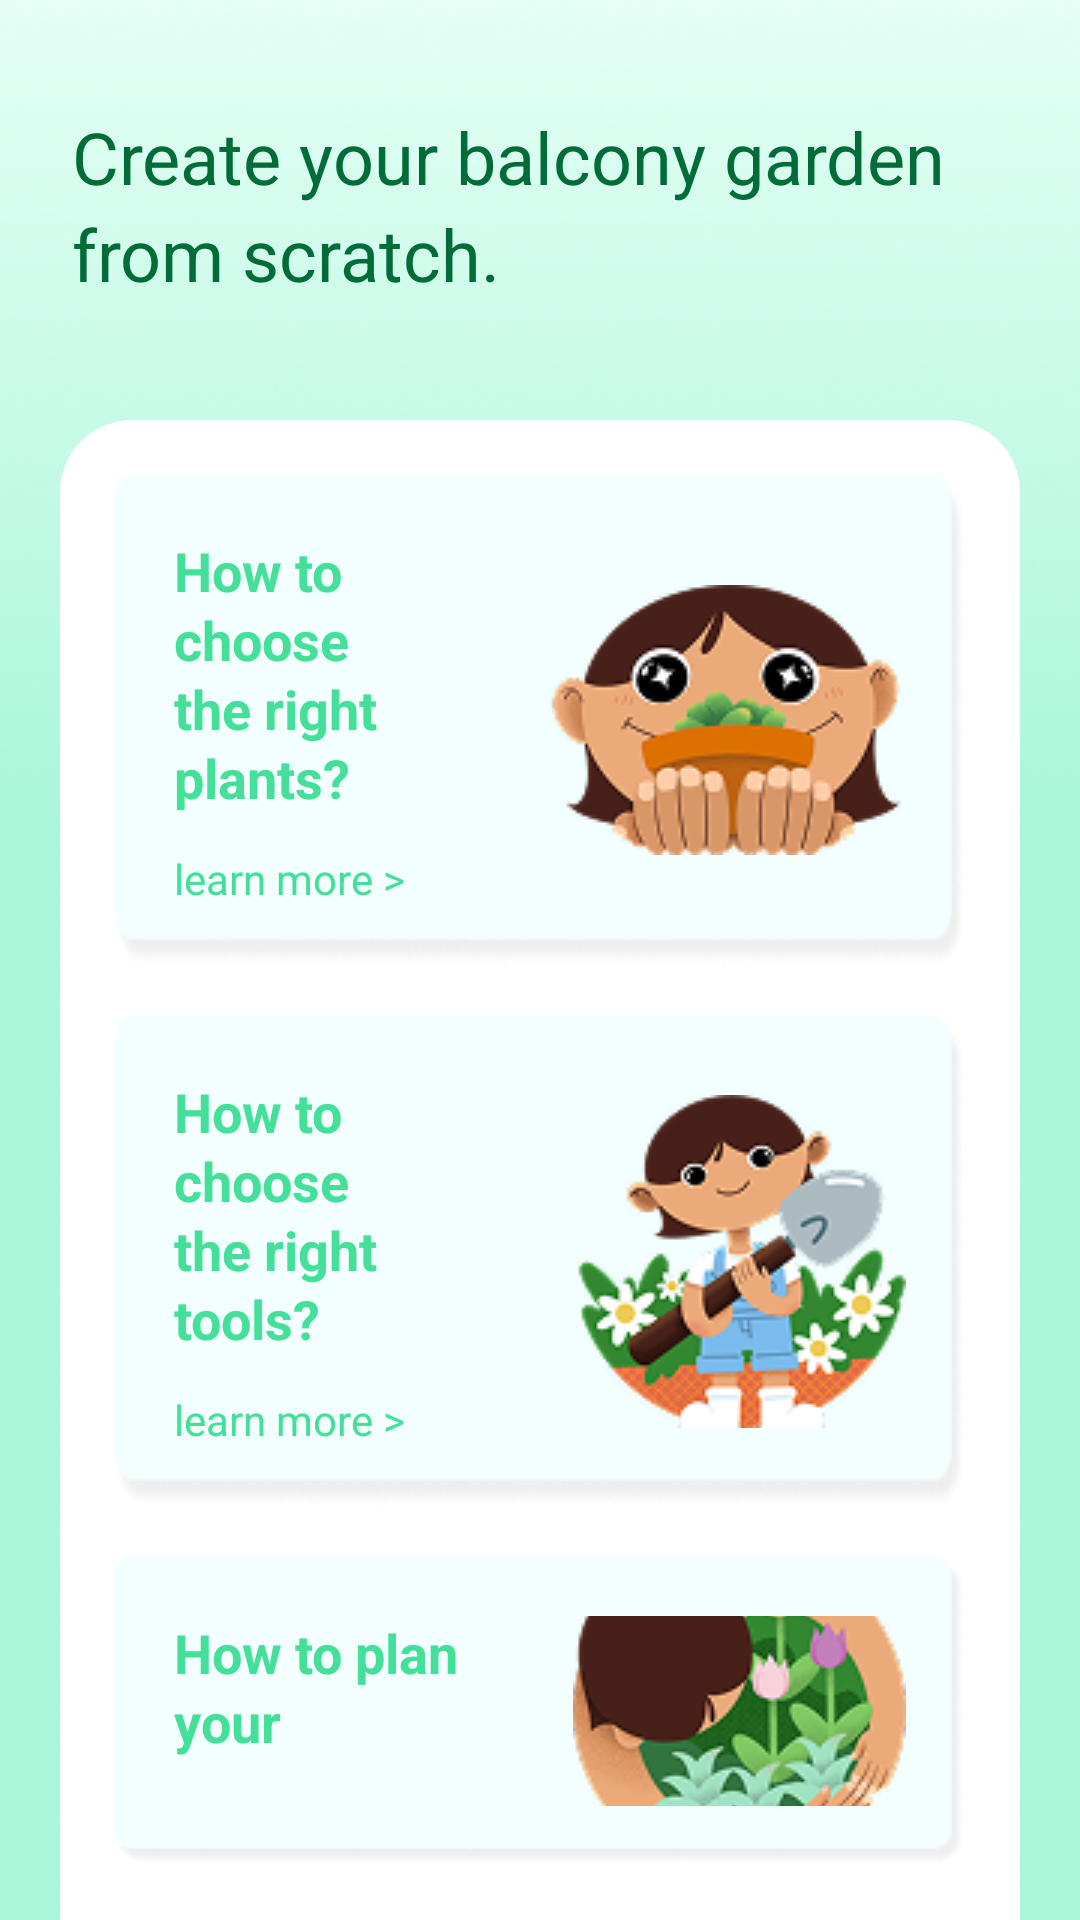

Icons on this 1080×1920 Android screen, each with its box as (x1, y1, x2, y2):
start pic: (551, 585, 900, 855), (578, 1095, 906, 1428), (573, 1616, 906, 1806)
